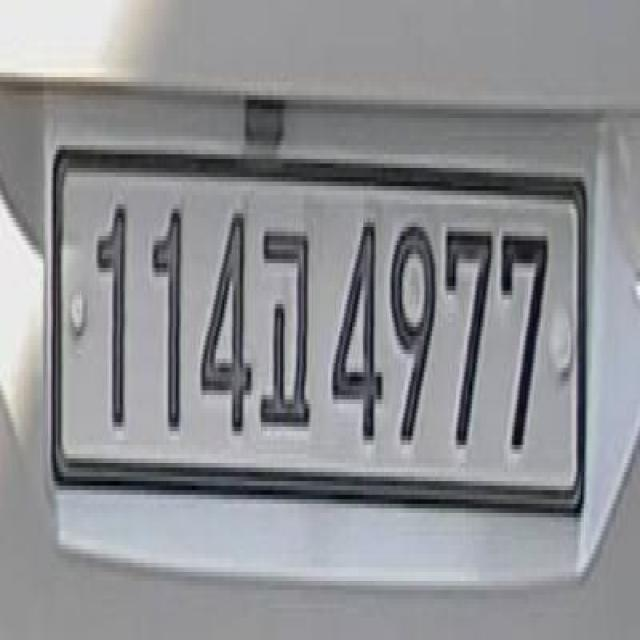illegal_plate: (54, 134, 595, 539)
